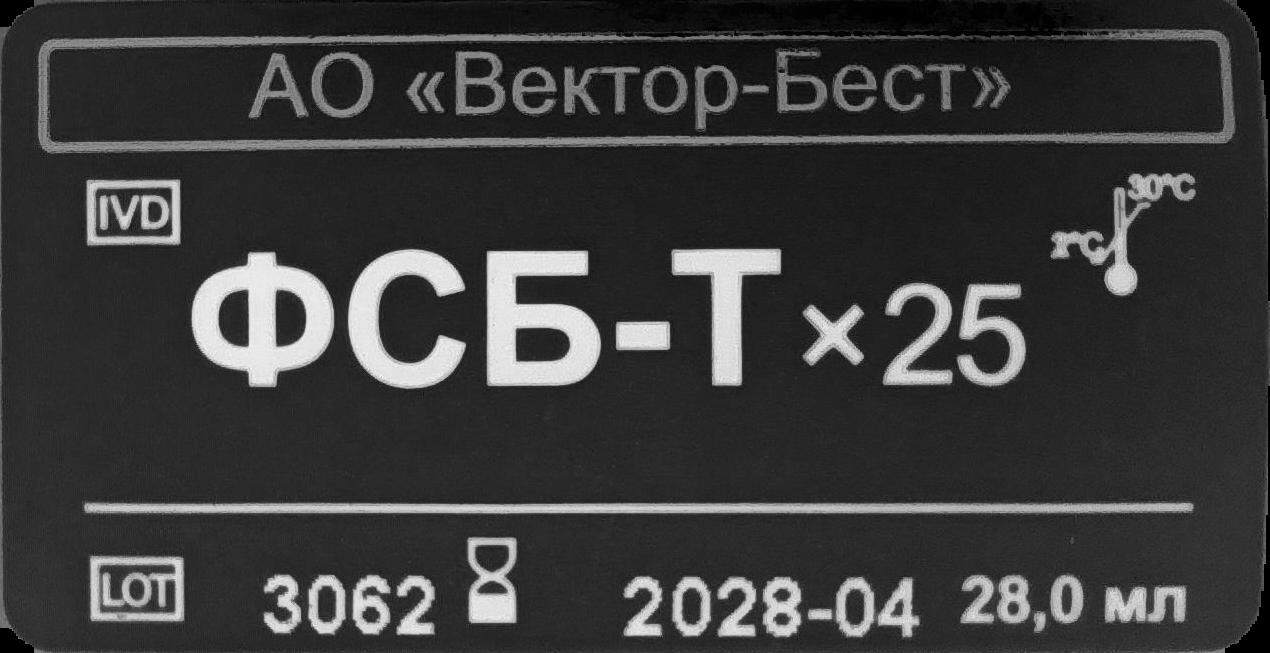something: (1046, 167, 1198, 301), (961, 573, 1189, 638), (84, 174, 184, 250), (85, 553, 187, 624), (463, 532, 520, 625)
text: (182, 245, 1032, 409), (247, 46, 1013, 129), (611, 572, 926, 640), (263, 573, 438, 634)
